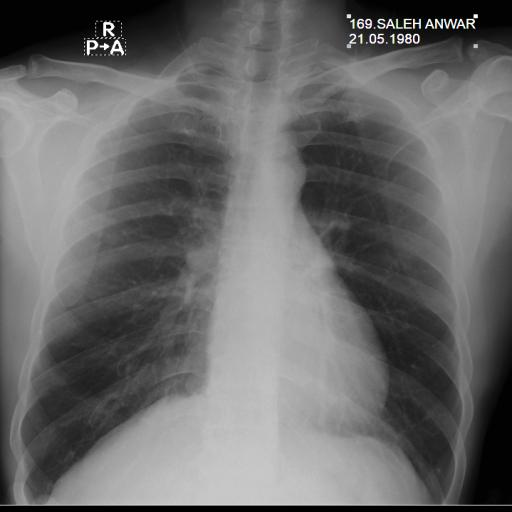normal: (11, 52, 479, 507)
